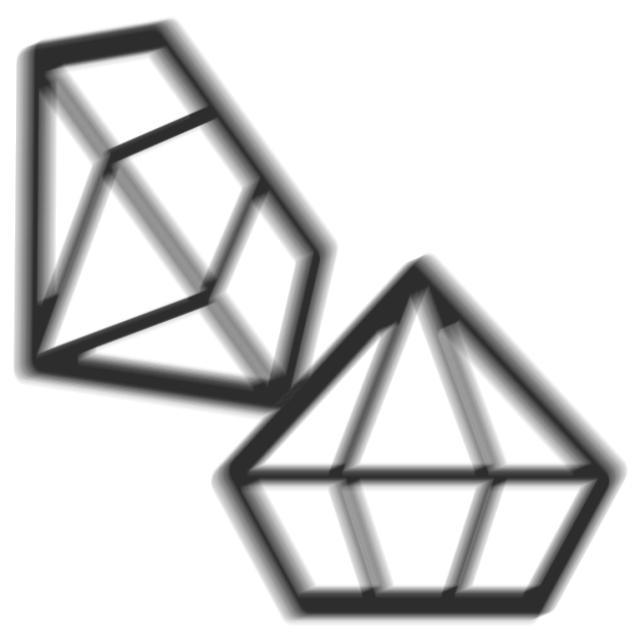diamond: (201, 245, 638, 633), (7, 8, 356, 435)
